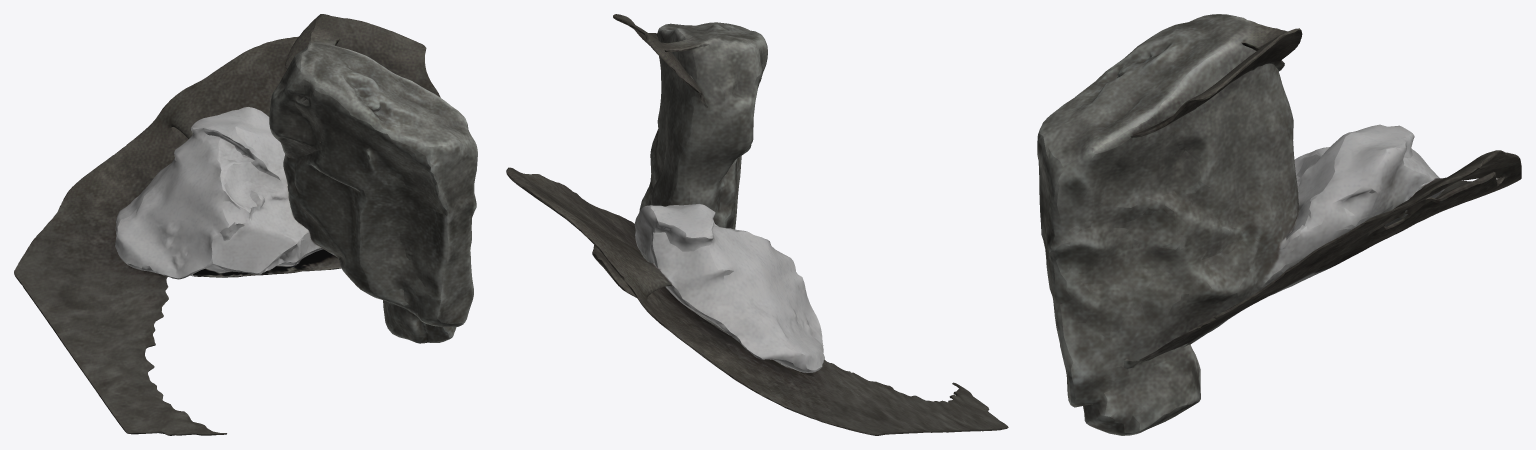
File: tex_mesh.glb
The picture shows the model from 3 angles, left to right: view 1: azimuth 30°, elevation 25°; view 2: azimuth 150°, elevation 25°; view 3: azimuth 270°, elevation 25°; orthographic projection. The views are drawn at different scales.
Parts seen in each view (by area): view 1: world; view 2: world; view 3: world.
Boxes of the visible parts, x1,y1,x2,y2 form: world: (14, 14, 477, 435); world: (506, 14, 1008, 435); world: (1037, 14, 1521, 435).
Size of the model in its own units: 1.59 by 1.5 by 1.59.
1 material, 1 textured.
